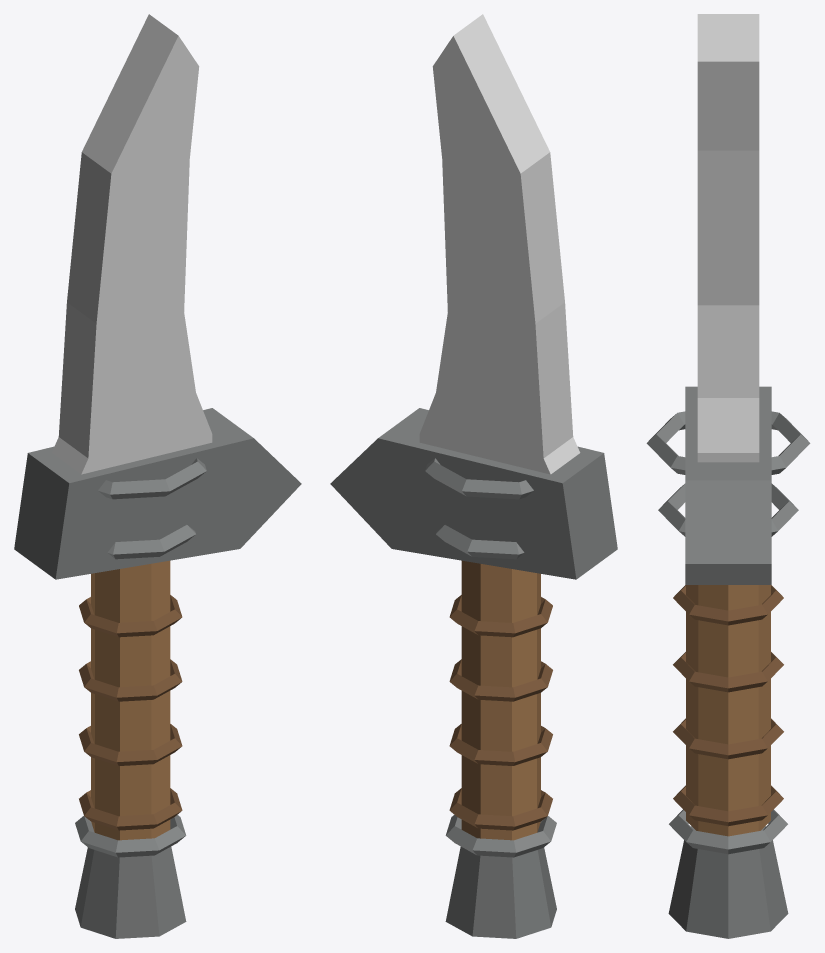
File: t1_skinning_knife.glb
The picture shows the model from 3 angles, left to right: view 1: azimuth 30°, elevation 25°; view 2: azimuth 150°, elevation 25°; view 3: azimuth 270°, elevation 25°; orthographic projection. The views are drawn at different scales.
Visible parts, largest first — view 1: CurvedSkinningBlade, BladeGuard, WoodHandle, BottomPommel, PommelBand, GuardRing, LeatherWrap1, LeatherWrap3, LeatherWrap4, LeatherWrap2, BladeCollar; view 2: CurvedSkinningBlade, BladeGuard, WoodHandle, BottomPommel, PommelBand, GuardRing, LeatherWrap1, LeatherWrap3, LeatherWrap4, LeatherWrap2, BladeCollar; view 3: CurvedSkinningBlade, WoodHandle, BladeGuard, BottomPommel, GuardRing, PommelBand, LeatherWrap1, LeatherWrap2, LeatherWrap3, LeatherWrap4, BladeCollar.
Part boxes in pixels (x1,y1,x2,y2): CurvedSkinningBlade: [51, 14, 212, 474]; BladeGuard: [14, 408, 301, 579]; WoodHandle: [91, 560, 170, 840]; BottomPommel: [75, 846, 186, 938]; PommelBand: [75, 815, 186, 857]; GuardRing: [98, 458, 206, 499]; LeatherWrap1: [79, 788, 182, 830]; LeatherWrap3: [79, 659, 182, 701]; LeatherWrap4: [79, 595, 182, 637]; LeatherWrap2: [79, 724, 182, 765]; BladeCollar: [107, 525, 195, 559]; CurvedSkinningBlade: [419, 14, 580, 474]; BladeGuard: [330, 408, 617, 579]; WoodHandle: [461, 560, 540, 840]; BottomPommel: [445, 846, 556, 938]; PommelBand: [445, 815, 556, 857]; GuardRing: [425, 458, 533, 499]; LeatherWrap1: [449, 788, 552, 830]; LeatherWrap3: [449, 659, 552, 701]; LeatherWrap4: [449, 595, 552, 637]; LeatherWrap2: [449, 724, 552, 765]; BladeCollar: [436, 525, 524, 559]; CurvedSkinningBlade: [697, 14, 759, 462]; WoodHandle: [686, 585, 770, 836]; BladeGuard: [685, 386, 771, 584]; BottomPommel: [668, 826, 788, 938]; GuardRing: [646, 411, 810, 474]; PommelBand: [669, 809, 787, 854]; LeatherWrap1: [673, 785, 783, 826]; LeatherWrap2: [673, 718, 783, 759]; LeatherWrap3: [673, 652, 783, 692]; LeatherWrap4: [673, 585, 783, 625]; BladeCollar: [658, 483, 798, 536].
Bounding box in the file's own units: 0.36 × 1.23 × 0.2.
